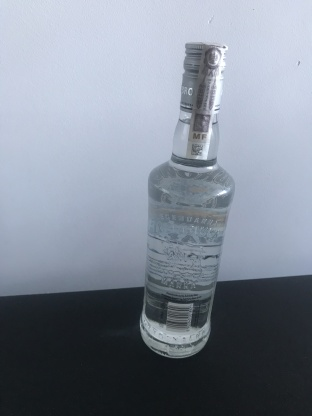nakretka: (176, 34, 231, 117)
